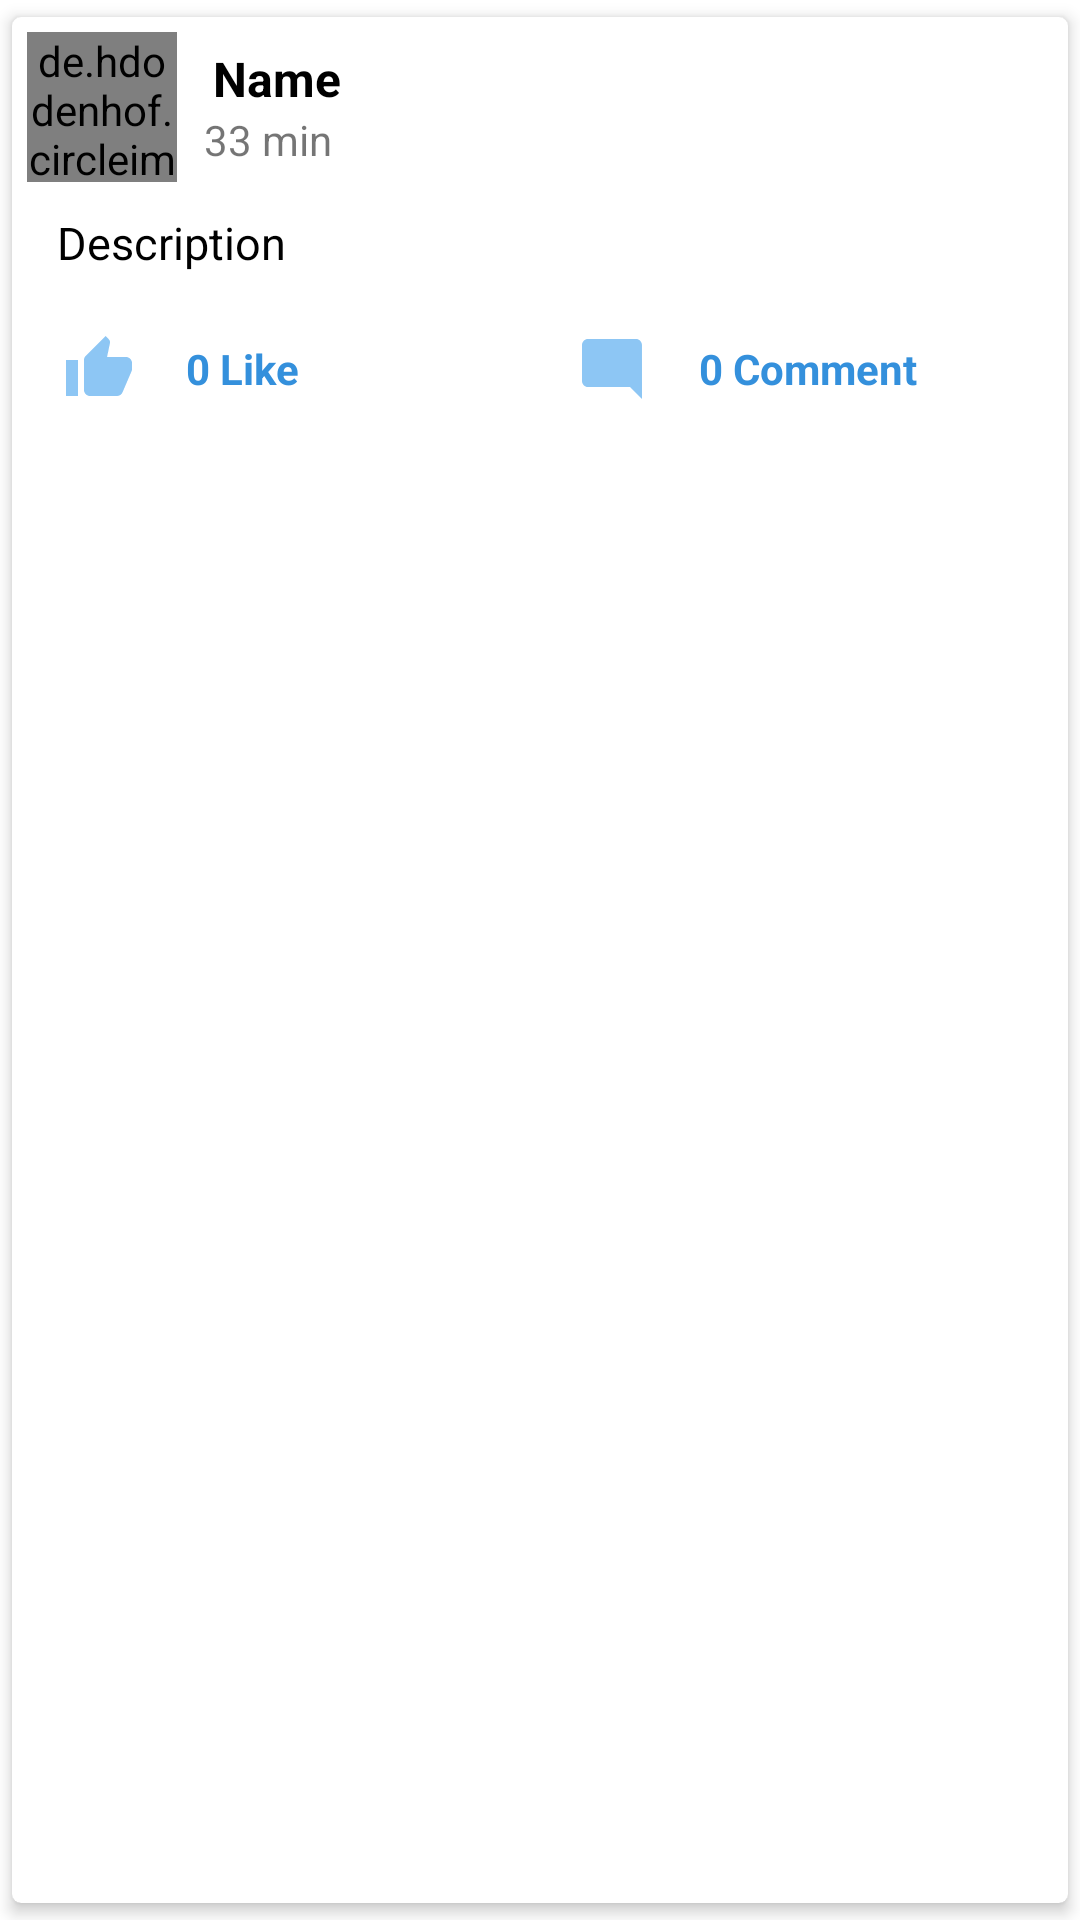

Icon click points for this 1080x1920 phone screenshot, format (x=x, y=y):
post commet: (x=612, y=369)
post like: (x=99, y=366)
